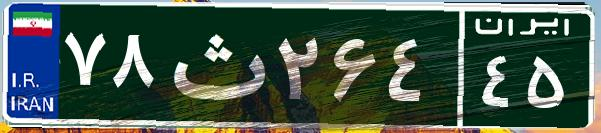2: (273, 28, 330, 110)
4: (385, 28, 445, 110), (475, 38, 525, 113)
5: (525, 38, 570, 115)
6: (330, 28, 385, 110)
7: (57, 26, 110, 107)
8: (110, 28, 158, 105)
ث: (158, 15, 273, 115)
